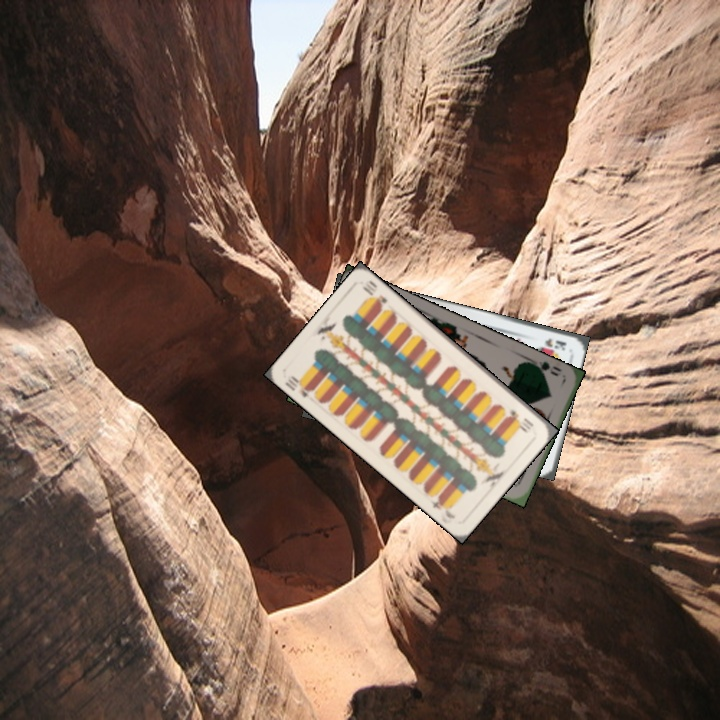E10: (281, 371, 316, 400), (505, 405, 536, 434)
GO: (527, 357, 565, 379)
SK: (541, 334, 569, 353)
